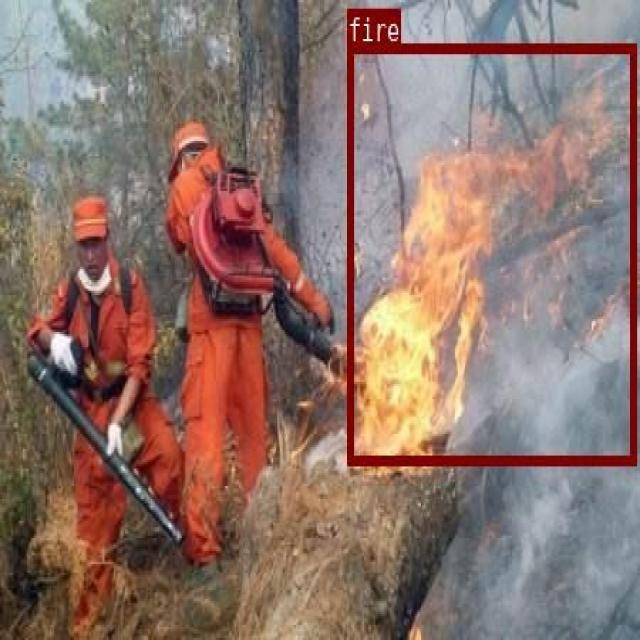fire: (346, 42, 634, 463)
